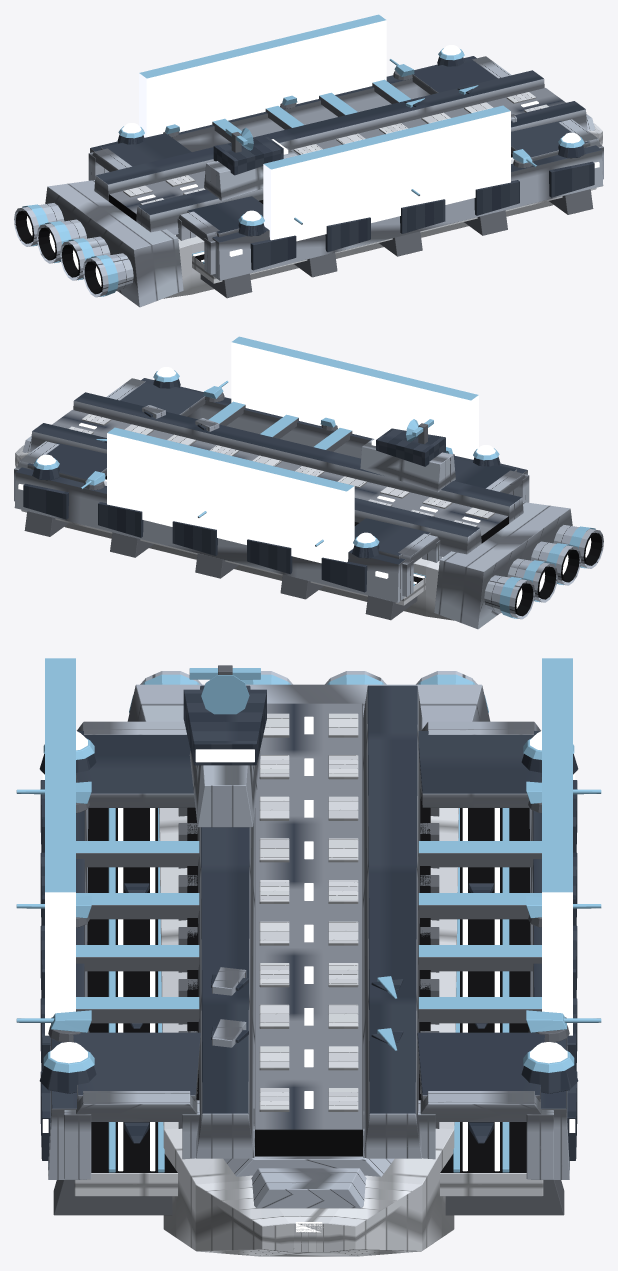
The model's file is carrier.glb.
3 views of the same model, one above another, from view 1: azimuth 30°, elevation 25°; view 2: azimuth 150°, elevation 25°; view 3: azimuth 270°, elevation 25° (orthographic). The views are drawn at different scales.
Visible parts, largest first — view 1: nexulan_convergence_carrier; view 2: nexulan_convergence_carrier; view 3: nexulan_convergence_carrier.
Boxes of the visible parts, x1,y1,x2,y2 form: nexulan_convergence_carrier: (14, 14, 603, 307); nexulan_convergence_carrier: (14, 336, 603, 629); nexulan_convergence_carrier: (16, 658, 601, 1256).
Bounding box in the file's own units: 55 × 13.68 × 26.14.
1 material, 1 textured.
